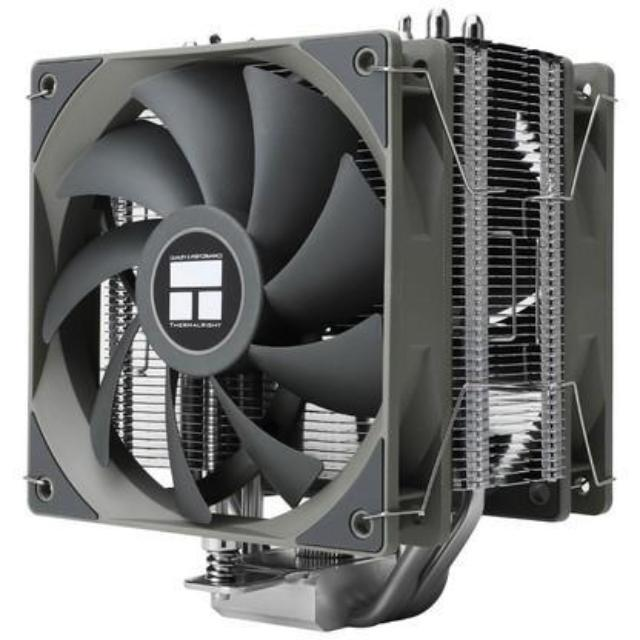CPU_Fan: (32, 4, 616, 638)
